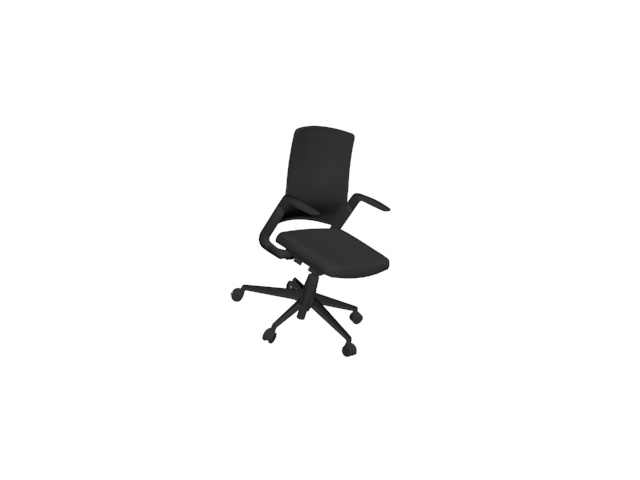desk_chair: (225, 121, 392, 360)
